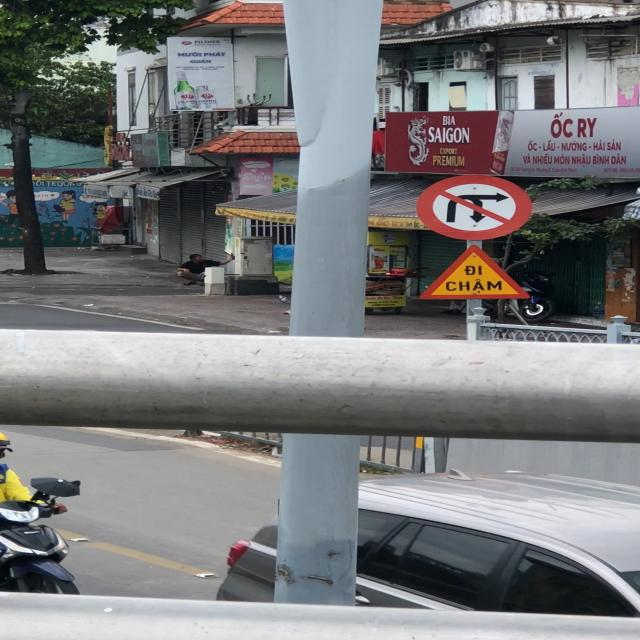Bien bao cam re phai va quay dau: (411, 170, 541, 241)
